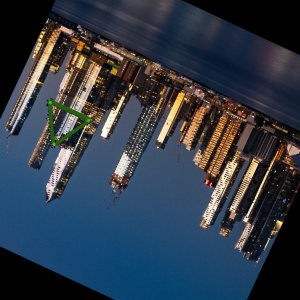triangle: (42, 96, 92, 149)
